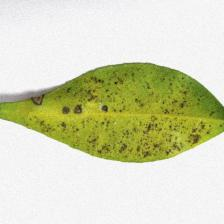canker: (84, 82, 188, 156)
